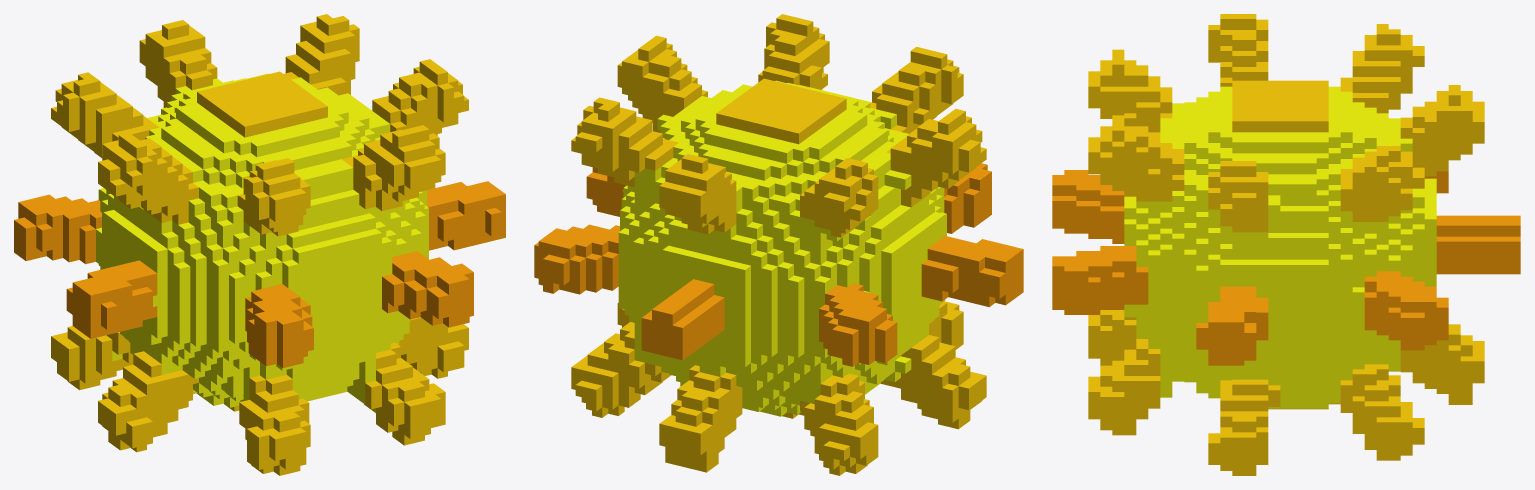
File: bomb.gltf
3 renders of one model, left to right at view 1: azimuth 30°, elevation 25°; view 2: azimuth 150°, elevation 25°; view 3: azimuth 270°, elevation 25°, orthographic.
Parts seen in each view (by area): view 1: Layer.1; view 2: Layer.1; view 3: Layer.1.
Boxes of the visible parts, <box> form: Layer.1: <box>14,14,505,475</box>; Layer.1: <box>534,14,1023,475</box>; Layer.1: <box>1052,14,1520,475</box>.
Size of the model in its own units: 40 by 28 by 39.
Materials: 1 (1 with a texture image).
